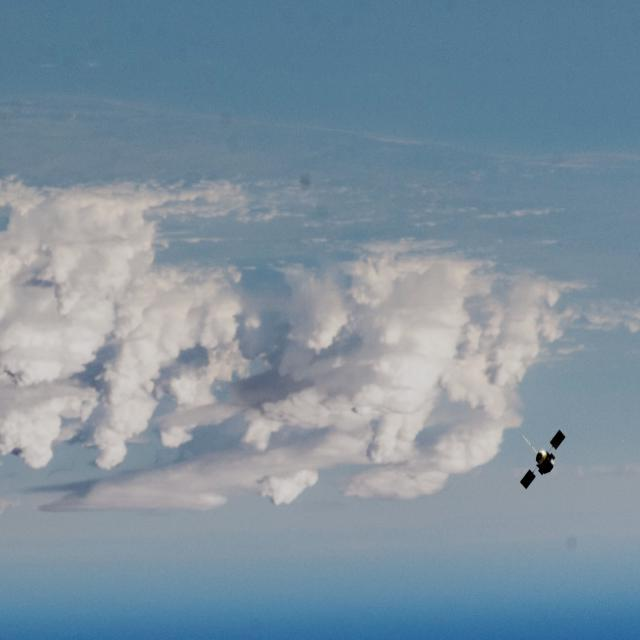satellite: (509, 428, 569, 496)
